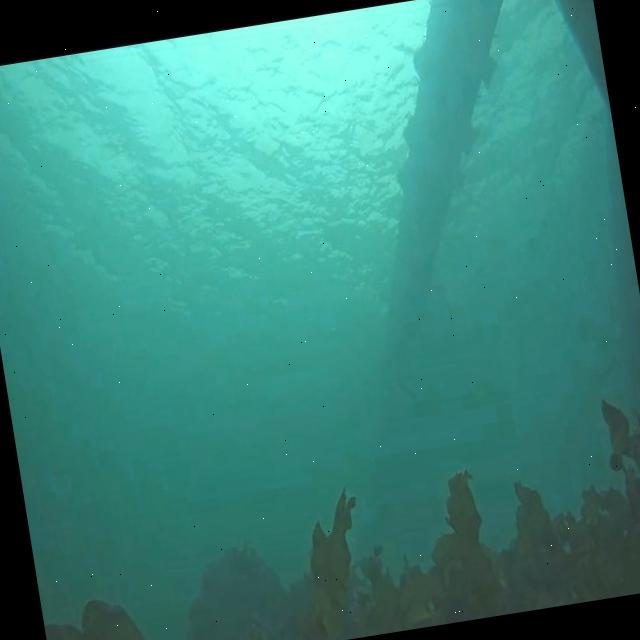fish: (394, 374, 414, 404)
